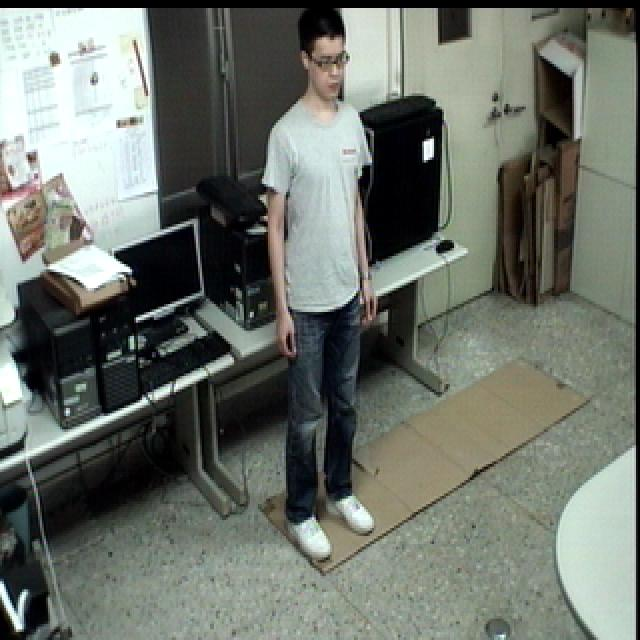stand: (254, 0, 388, 573)
